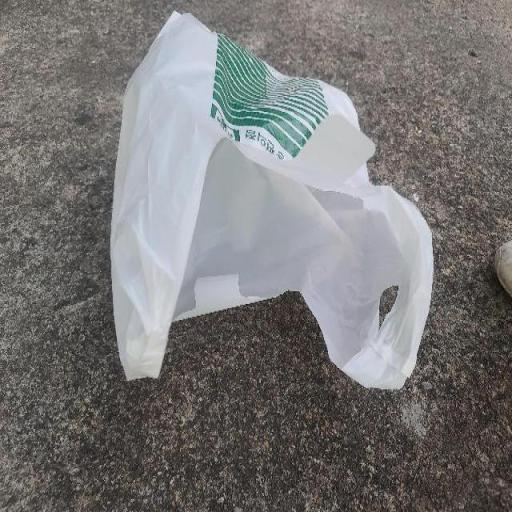plastic-bag: (107, 7, 435, 394)
